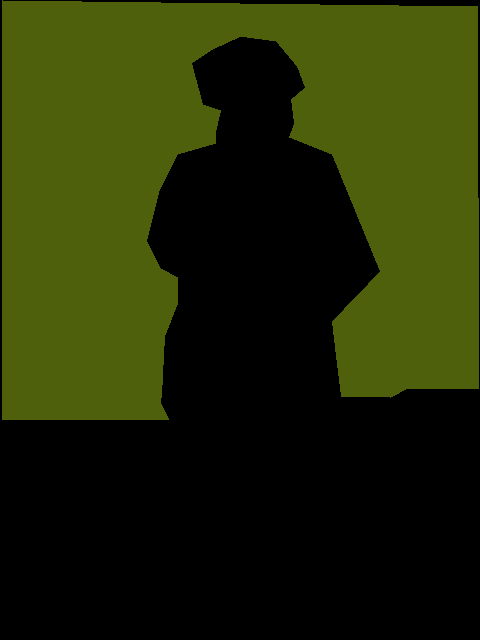Train: (2, 0, 479, 419)
